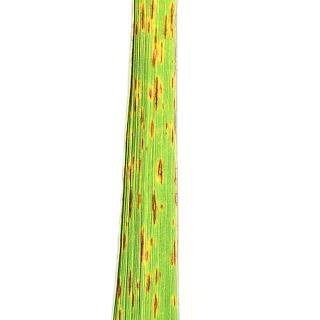Bercak-Cokelat-Sempit: (134, 224, 160, 268), (120, 151, 135, 226), (145, 72, 167, 114), (160, 0, 179, 42), (165, 234, 181, 273), (148, 188, 166, 222), (131, 0, 146, 38), (113, 275, 124, 320), (151, 24, 161, 72), (156, 158, 166, 188), (148, 118, 158, 144), (152, 288, 160, 320)
